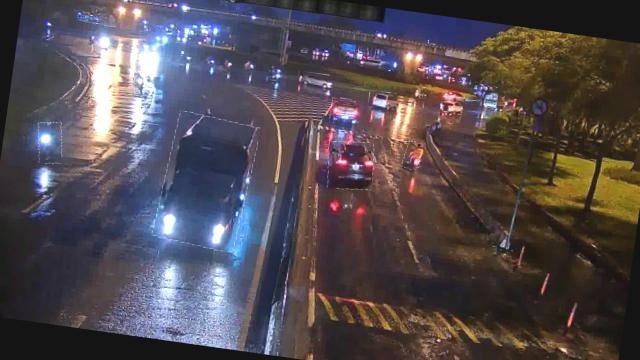Bike: (34, 120, 65, 164), (402, 139, 423, 170), (131, 70, 148, 96)
Car: (324, 138, 376, 192), (329, 97, 361, 123), (296, 70, 332, 90), (368, 89, 397, 111), (441, 94, 464, 115)
Truck: (154, 111, 258, 253)
